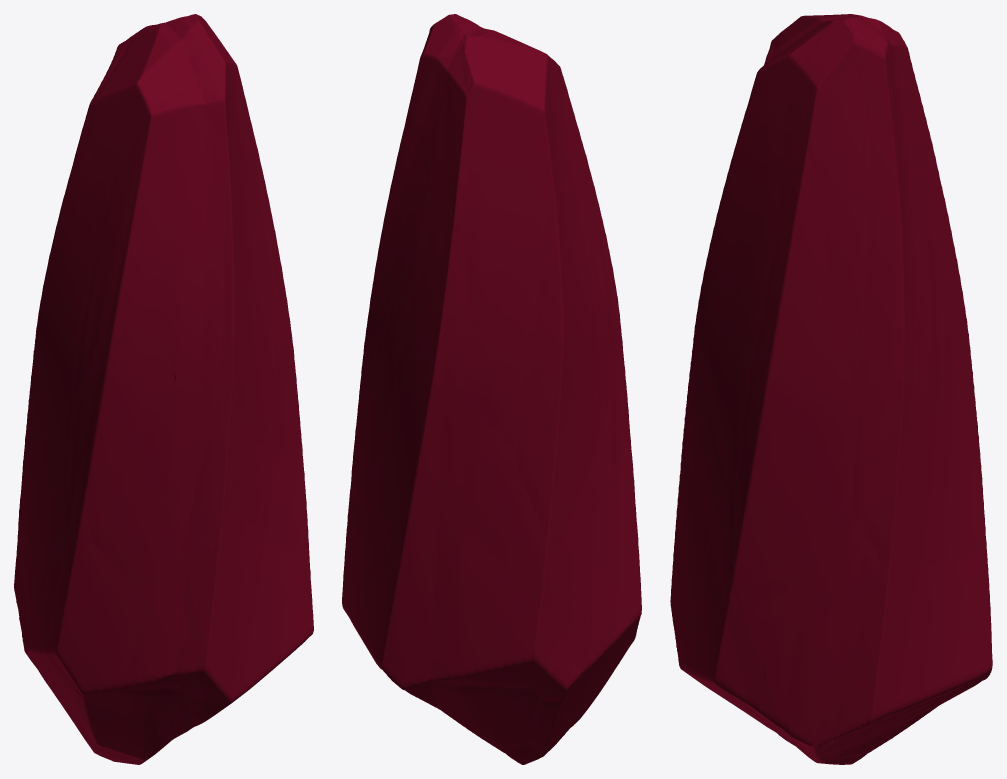
File: crystal.gltf
3 renders of one model, left to right at view 1: azimuth 30°, elevation 25°; view 2: azimuth 150°, elevation 25°; view 3: azimuth 270°, elevation 25°, orthographic. The views are drawn at different scales.
Parts seen in each view (by area): view 1: Crystal; view 2: Crystal; view 3: Crystal.
Boxes of the visible parts, box(x1,y1,x2,y2) form: Crystal: box(14, 14, 313, 764); Crystal: box(342, 14, 641, 764); Crystal: box(670, 14, 992, 764).
Bounding box in the file's own units: 3.01 × 8.09 × 3.01.
